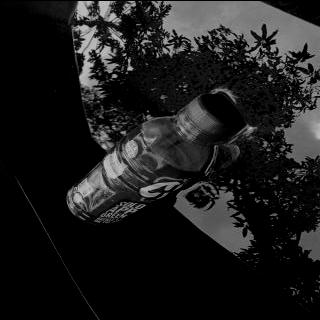bottle: (64, 90, 246, 226)
